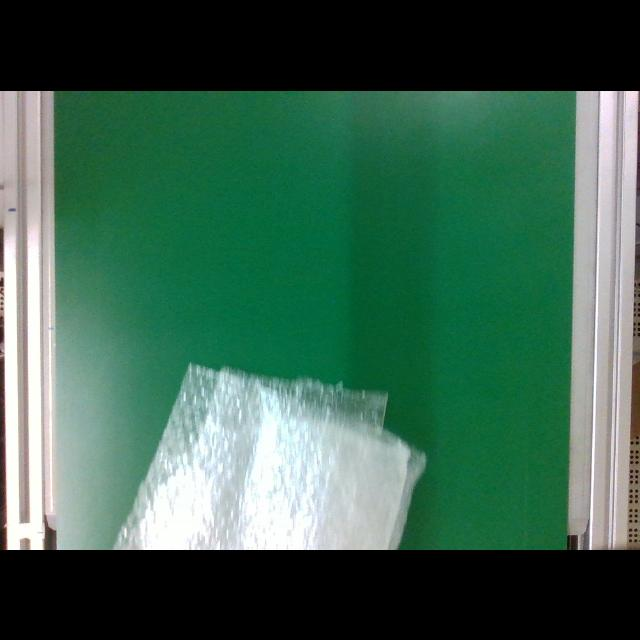scrap_plastic: (115, 362, 427, 550)
